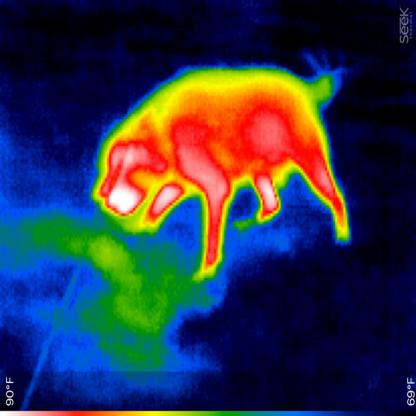dog: (91, 57, 355, 277)
